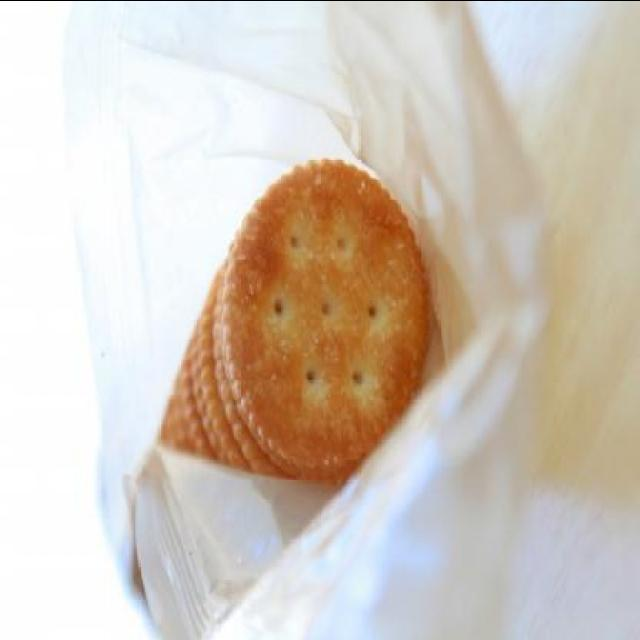Ritz cracker packaged: (218, 153, 436, 465)
